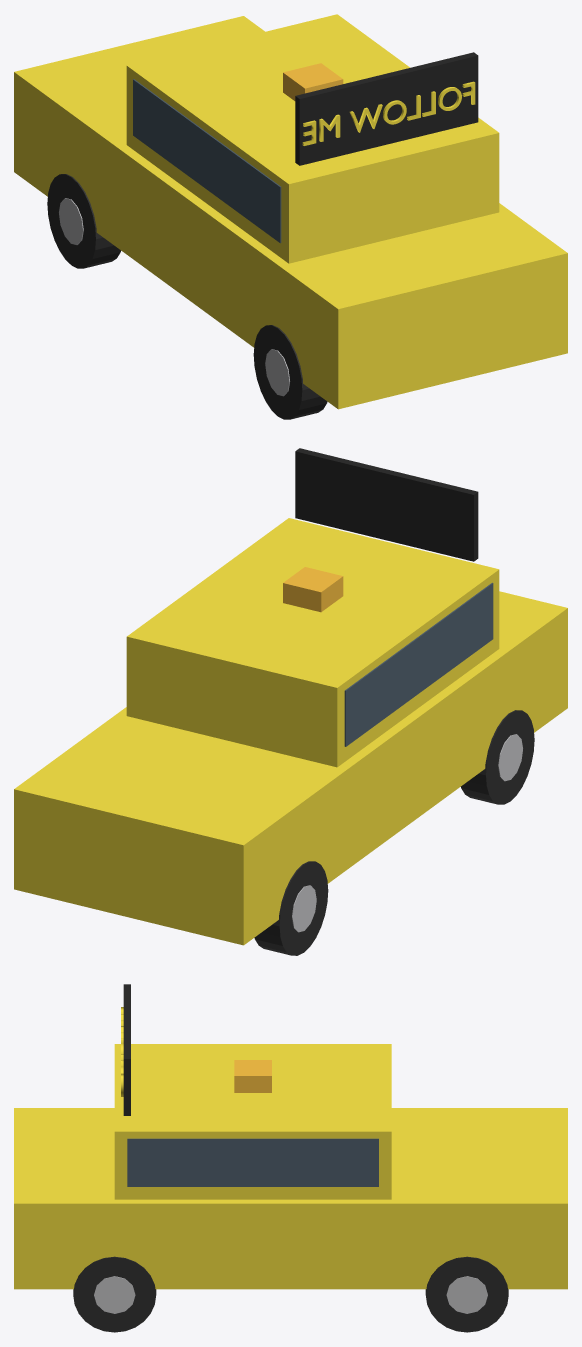
The model's file is follow_me.glb.
3 views of the same model, one above another, from view 1: azimuth 30°, elevation 25°; view 2: azimuth 150°, elevation 25°; view 3: azimuth 270°, elevation 25° (orthographic). The views are drawn at different scales.
Visible parts, largest first — view 1: body, cabin, sign, windows, wheel.001, wheel, Text, beacon, hub, hub.001; view 2: body, cabin, sign, windows, wheel, wheel.001, beacon, hub.001, hub; view 3: body, cabin, windows, wheel.002, wheel.003, beacon, hub.002, hub.003, sign.
Boxes of the visible parts, box(x1,y1,x2,y2) form: body: box(14, 16, 567, 409); cabin: box(126, 14, 499, 263); sign: box(295, 52, 478, 165); windows: box(133, 79, 281, 243); wheel.001: box(253, 325, 327, 419); wheel: box(47, 174, 120, 268); Text: box(302, 81, 475, 145); beacon: box(283, 63, 343, 100); hub: box(59, 198, 83, 244); hub.001: box(265, 349, 289, 396); body: box(14, 591, 567, 945); cabin: box(126, 518, 499, 767); sign: box(295, 448, 478, 561); windows: box(344, 582, 493, 746); wheel: box(254, 861, 328, 955); wheel.001: box(461, 710, 534, 804); beacon: box(283, 567, 343, 612); hub.001: box(498, 734, 522, 781); hub: box(292, 885, 316, 932); body: box(14, 1108, 567, 1289); cabin: box(114, 1044, 391, 1199); windows: box(127, 1138, 378, 1186); wheel.002: box(425, 1256, 508, 1332); wheel.003: box(73, 1256, 156, 1332); beacon: box(234, 1060, 271, 1092); hub.002: box(446, 1276, 487, 1313); hub.003: box(94, 1276, 135, 1313); sign: box(123, 984, 130, 1115).
Size of the model in its own units: 1.83 by 2.3 by 4.4.
